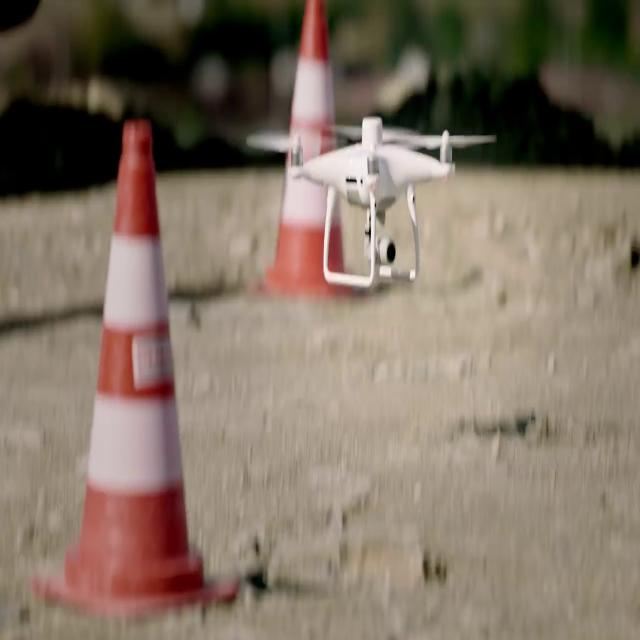drone: (246, 113, 497, 286)
